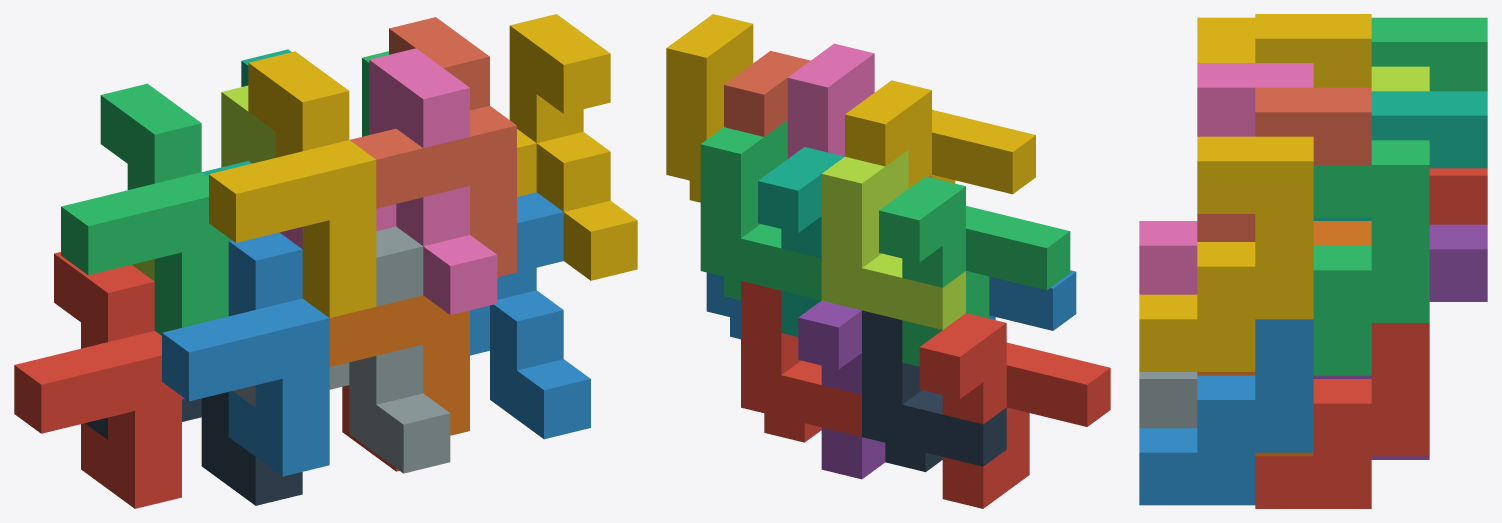
Rendered from tiling.obj.
3 views of the same model, side by side, from view 1: azimuth 30°, elevation 25°; view 2: azimuth 150°, elevation 25°; view 3: azimuth 270°, elevation 25° (orthographic). The views are drawn at different scales.
Visible parts, largest first — view 1: copy_1_domain_4, copy_1_domain_1, copy_1_domain_2, copy_1_domain_3, copy_2_domain_8, copy_1_domain_8, copy_2_domain_4, copy_2_domain_6, copy_2_domain_2, copy_1_domain_6, copy_2_domain_1, copy_2_domain_3 (+1 smaller); view 2: copy_1_domain_1, copy_1_domain_3, copy_2_domain_3, copy_2_domain_7, copy_1_domain_4, copy_2_domain_1, copy_2_domain_5, copy_2_domain_8, copy_1_domain_5, copy_2_domain_4, copy_1_domain_7, copy_1_domain_8 (+2 smaller); view 3: copy_2_domain_8, copy_2_domain_7, copy_2_domain_6, copy_2_domain_5, copy_2_domain_4, copy_1_domain_4, copy_1_domain_8, copy_1_domain_7, copy_1_domain_3, copy_1_domain_5, copy_1_domain_1, copy_2_domain_2 (+2 smaller).
Boxes of the visible parts, x1,y1,x2,y2 form: copy_1_domain_4: (209, 51, 376, 317); copy_1_domain_1: (14, 252, 181, 508); copy_1_domain_2: (162, 232, 329, 476); copy_1_domain_3: (61, 83, 228, 335); copy_2_domain_8: (509, 14, 637, 280); copy_1_domain_8: (350, 17, 516, 277); copy_2_domain_4: (279, 48, 497, 314); copy_2_domain_6: (470, 192, 590, 439); copy_2_domain_2: (233, 226, 450, 473); copy_1_domain_6: (329, 295, 469, 435); copy_2_domain_1: (85, 392, 302, 505); copy_2_domain_3: (132, 85, 275, 281); copy_1_domain_1: (919, 313, 1110, 508); copy_1_domain_3: (879, 176, 1070, 366); copy_2_domain_3: (821, 150, 965, 329); copy_2_domain_7: (700, 120, 821, 300); copy_1_domain_4: (845, 80, 1035, 194); copy_2_domain_1: (862, 310, 1006, 472); copy_2_domain_5: (741, 281, 861, 442); copy_2_domain_8: (666, 14, 753, 202); copy_1_domain_5: (798, 300, 885, 479); copy_2_domain_4: (787, 43, 931, 177); copy_1_domain_7: (758, 147, 844, 336); copy_1_domain_8: (724, 51, 810, 136); copy_2_domain_8: (1139, 136, 1313, 371); copy_2_domain_7: (1313, 140, 1429, 375); copy_2_domain_6: (1139, 319, 1313, 505); copy_2_domain_5: (1255, 323, 1429, 508); copy_2_domain_4: (1139, 63, 1313, 294); copy_1_domain_4: (1197, 14, 1371, 87); copy_1_domain_8: (1197, 87, 1371, 241); copy_1_domain_7: (1313, 91, 1487, 220); copy_1_domain_3: (1371, 17, 1487, 91); copy_1_domain_5: (1313, 224, 1487, 459); copy_1_domain_1: (1429, 168, 1487, 224); copy_2_domain_2: (1139, 372, 1197, 428).
Size of the model in its own units: 11 by 8 by 6.
